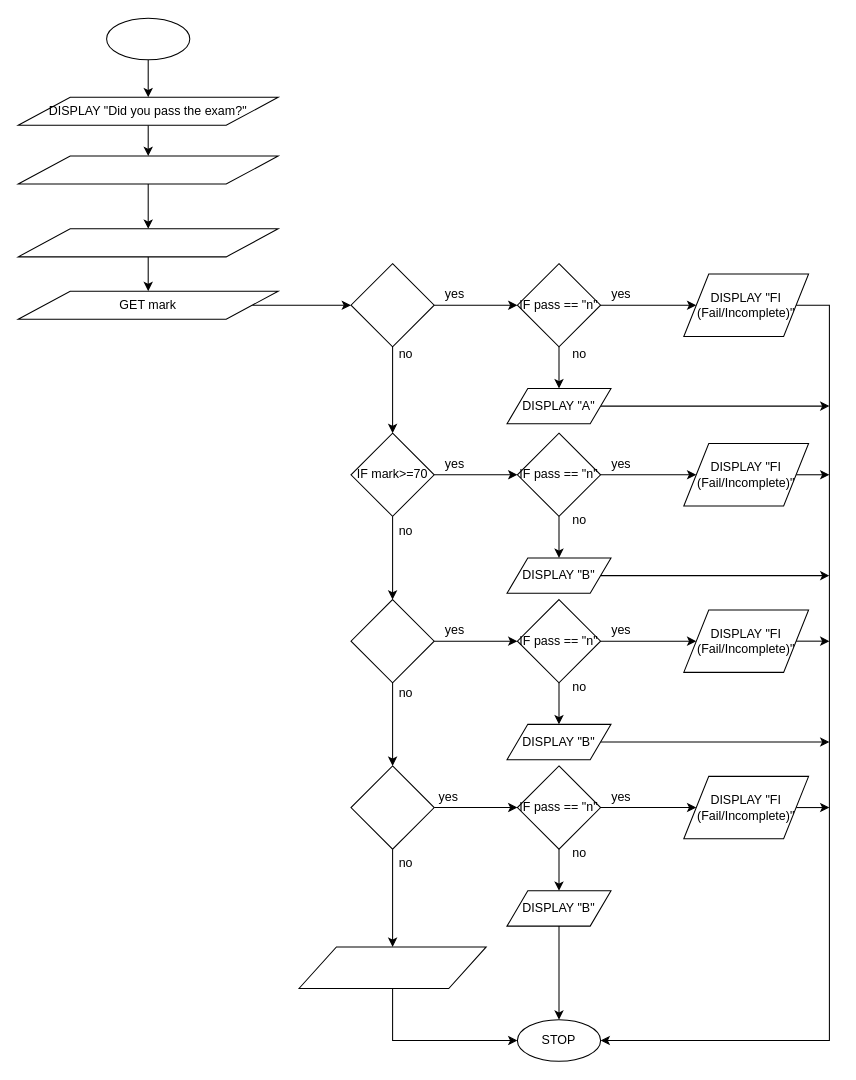
Image size: 856x1080. Some labels were removed from this diagram. The shapes that lost their labels are listed below. From the top down, each one's centre as x and y in pixels, then its label:
pixel 148 38: START
pixel 147 169: GET pass
pixel 147 242: PROMPT mark
pixel 392 305: IF mark>=80
pixel 392 641: IF mark>=60
pixel 392 807: IF mark>=50
pixel 392 967: DISPLAY "F"
